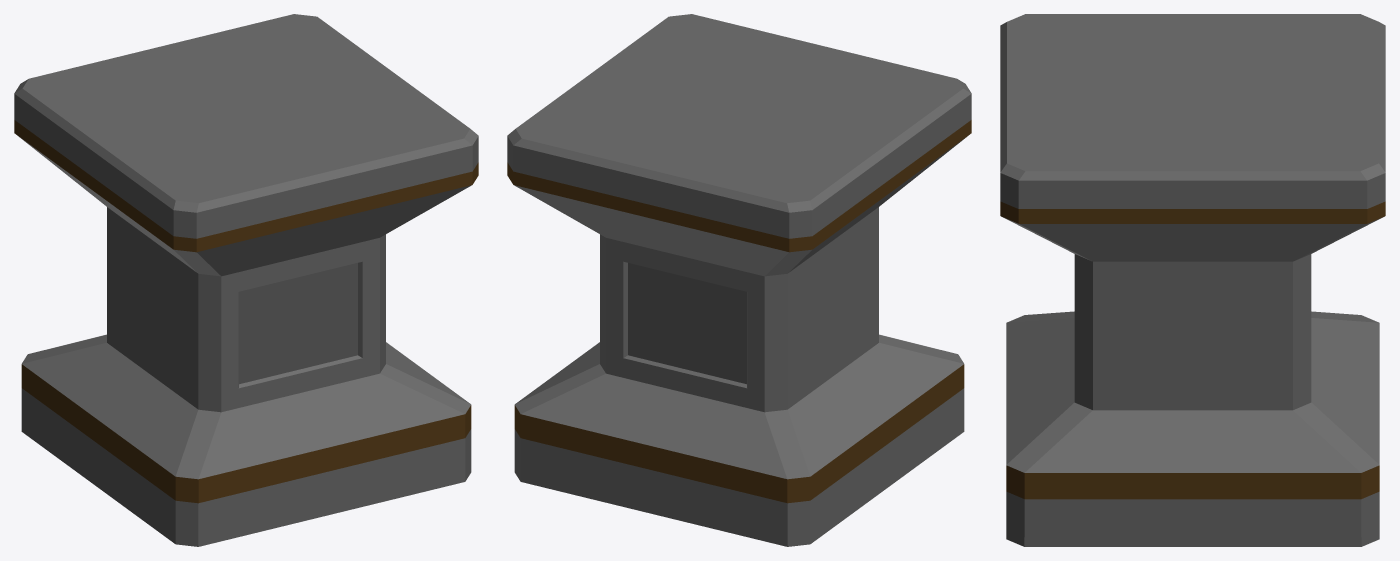
File: itemPedestal.fbx
3 renders of one model, left to right at view 1: azimuth 30°, elevation 25°; view 2: azimuth 150°, elevation 25°; view 3: azimuth 270°, elevation 25°, orthographic. The views are drawn at different scales.
Parts seen in each view (by area): view 1: Item Pedestal; view 2: Item Pedestal; view 3: Item Pedestal.
Boxes of the visible parts, x1,y1,x2,y2 form: Item Pedestal: (14,14,478,546); Item Pedestal: (507,14,971,546); Item Pedestal: (1000,14,1385,546).
Size of the model in its own units: 108 by 108 by 116.
